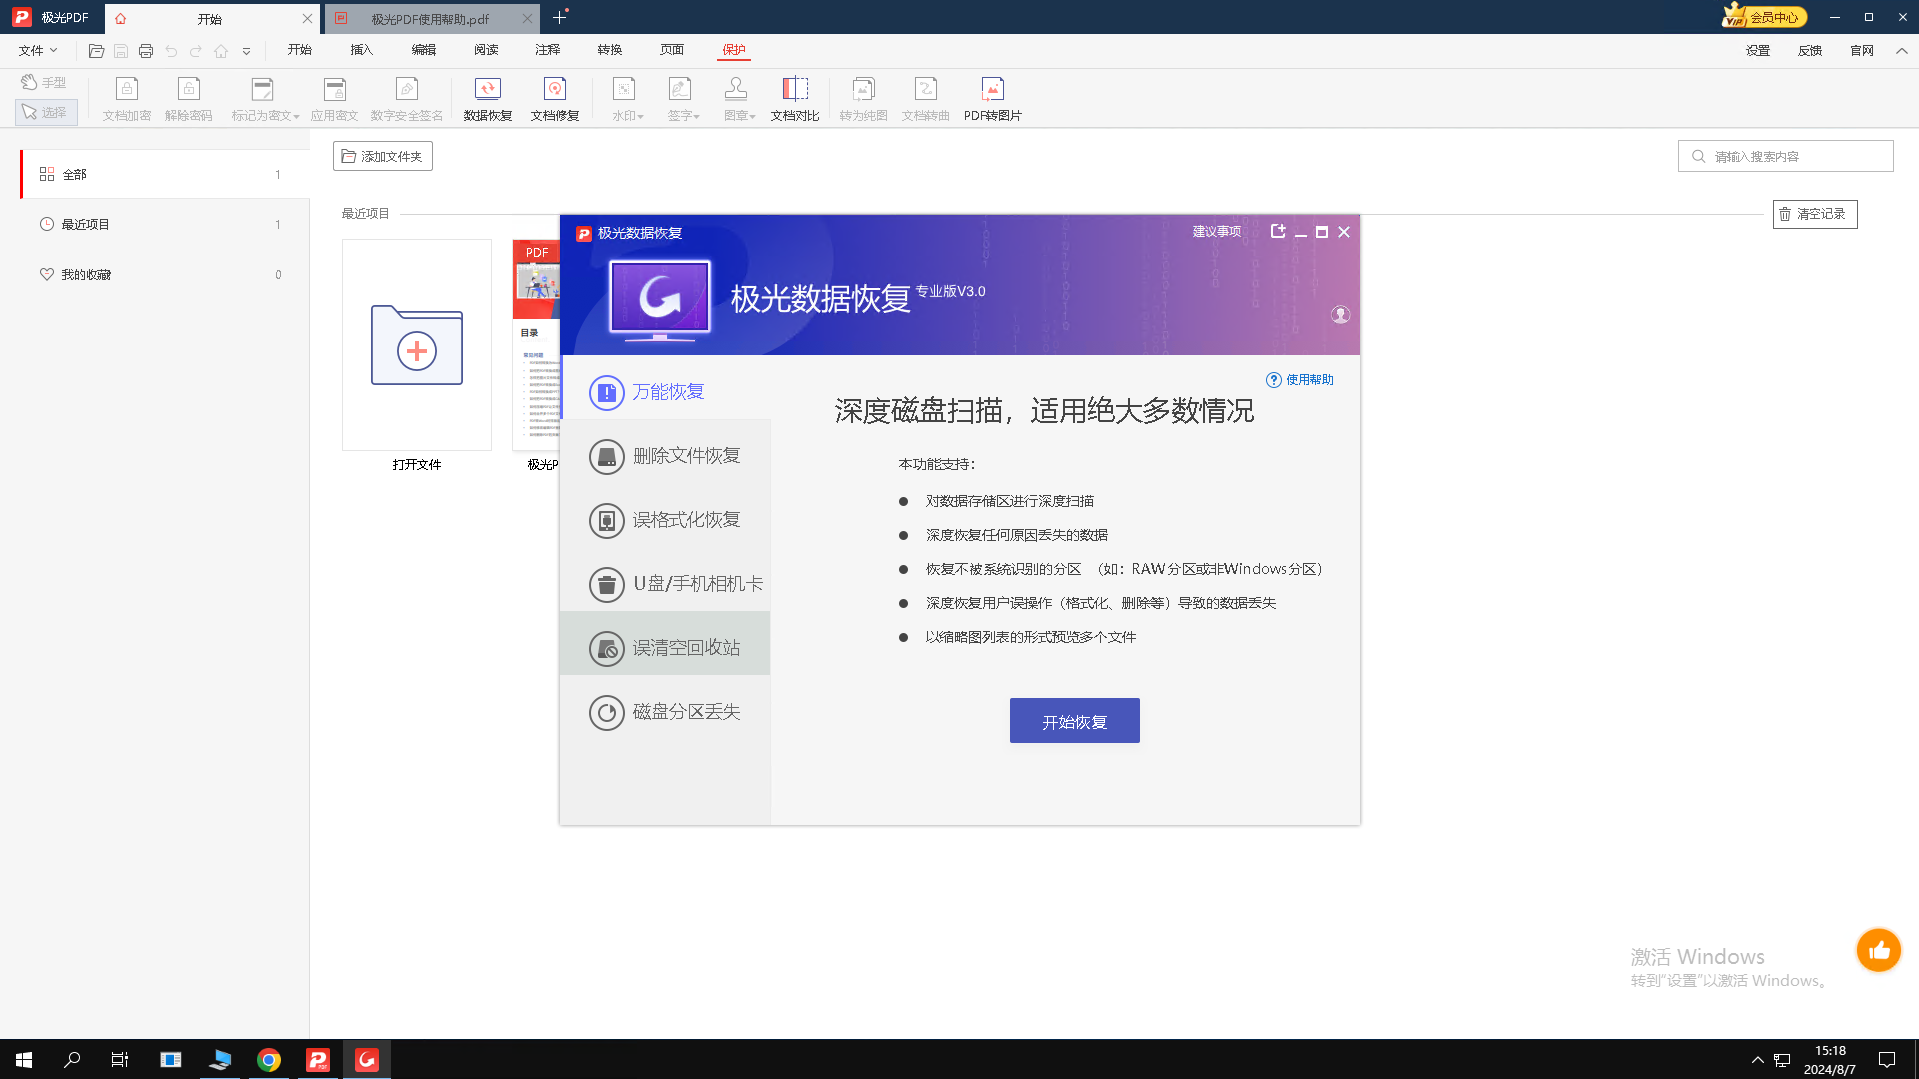Clickable: (970, 681, 1189, 779), (560, 675, 768, 758), (559, 599, 770, 681), (559, 485, 772, 555), (561, 419, 771, 485), (560, 357, 766, 419), (559, 560, 771, 618), (1263, 360, 1347, 401), (1186, 217, 1252, 252), (1321, 300, 1359, 337), (1257, 216, 1288, 252), (1330, 213, 1356, 252), (1314, 212, 1334, 249), (1290, 213, 1309, 252)
Root: (561, 216, 1360, 827)
level_0: (766, 353, 1363, 830), (560, 215, 1358, 356), (559, 353, 772, 823)
